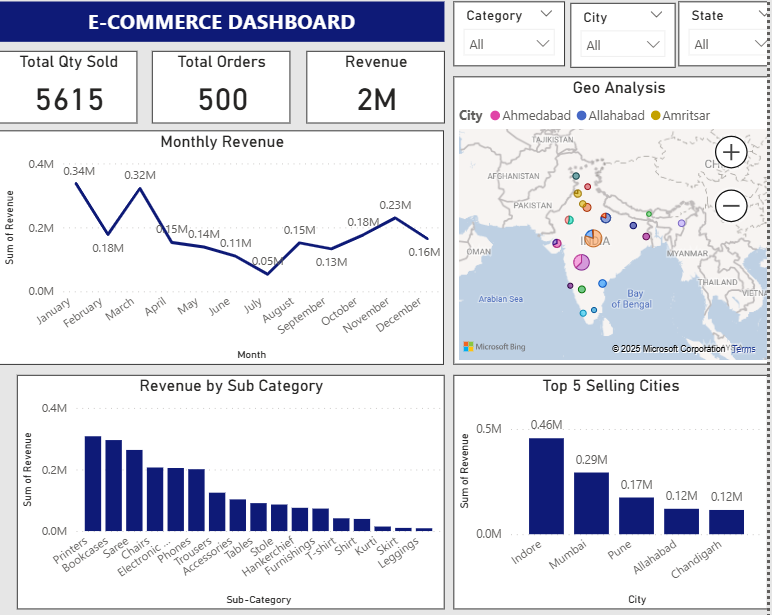

Layout of this report page (visuals, bound fields, positions):
{"tool":"powerbi","page":{"name":"Page 1","canvas":[800,720],"ordinal":0},"visuals":[{"type":"textbox","box":[0,8,464,42],"z":0},{"type":"card","title":"Total Qty Sold","fields":{"Values":["Order Details.Products Sold"]},"box":[0,60,144,75],"z":1000},{"type":"card","title":"Total Orders","fields":{"Values":["List of Orders.Total Orders"]},"box":[160,60,144,75],"z":2000},{"type":"card","title":"Revenue","fields":{"Values":["Order Details.Total Revenue"]},"box":[320,60,144,75],"z":3000},{"type":"lineChart","title":"Monthly Revenue","fields":{"Y":["Sum(Order Details.Revenue)"],"Category":["List of Orders.Order Date.Variation.Date Hierarchy.Month"]},"box":[0,142.4,463.6,243.9],"z":4000},{"type":"slicer","fields":{"Values":["Order Details.Category"]},"box":[473,8,116,67],"z":5000},{"type":"slicer","fields":{"Values":["List of Orders.City"]},"box":[595,9,109,67],"z":6000},{"type":"slicer","fields":{"Values":["List of Orders.State"]},"box":[708,8,109,67],"z":7000},{"type":"map","title":"Geo Analysis","fields":{"Category":["List of Orders.State"],"Series":["List of Orders.City"],"Size":["Sum(Order Details.Revenue)"]},"box":[472.7,86.4,343.9,300],"z":8000},{"type":"columnChart","title":"Revenue by Sub Category","fields":{"Category":["Order Details.Sub-Category"],"Y":["Sum(Order Details.Revenue)"]},"box":[18.2,397,445.5,243.9],"z":9000},{"type":"columnChart","title":"Top 5 Selling Cities","fields":{"Category":["List of Orders.City"],"Y":["Sum(Order Details.Revenue)"]},"box":[473,397,327,244],"z":10000}]}

Visuals, with their boxes on the page's 800x720 design canvas (x1, y1, x2, y2). These are canvas units, not pixel positions in the 772x615 screenshot, which may show the page scaled, cropped or inside an application window:
textbox: [0,8,464,50]
"Total Qty Sold" card: [0,60,144,135]
"Total Orders" card: [160,60,304,135]
"Revenue" card: [320,60,464,135]
"Monthly Revenue" lineChart: [0,142,464,386]
slicer - Order Details.Category: [473,8,589,75]
slicer - List of Orders.City: [595,9,704,76]
slicer - List of Orders.State: [708,8,817,75]
"Geo Analysis" map: [473,86,817,386]
"Revenue by Sub Category" columnChart: [18,397,464,641]
"Top 5 Selling Cities" columnChart: [473,397,800,641]
